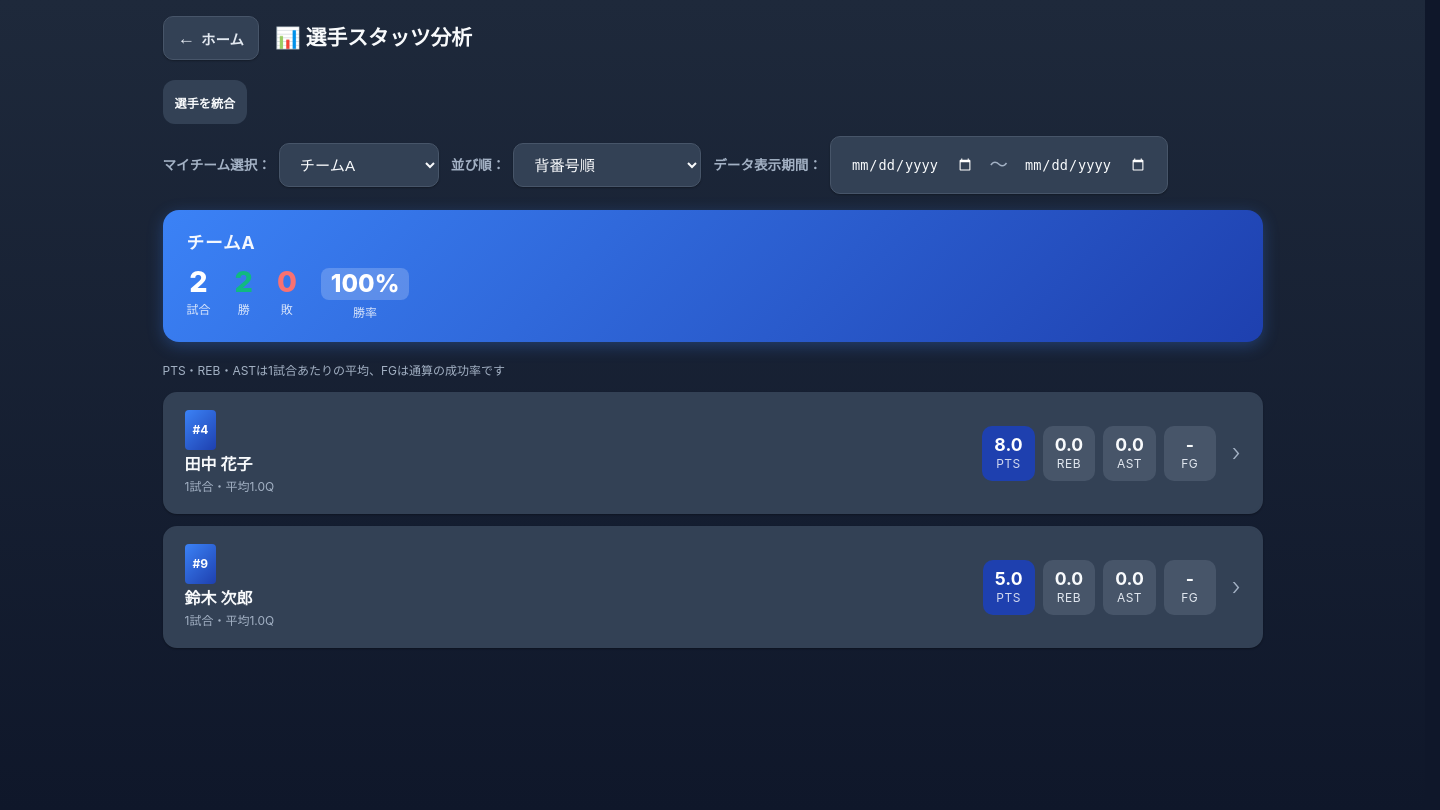
統合の流れ › マイチームを切り替えると選択モードを抜け、切り替え後のカードも選択済みにならない
Step 1. Click the button "選手を統合" → (205, 102), box [162,80,247,124]
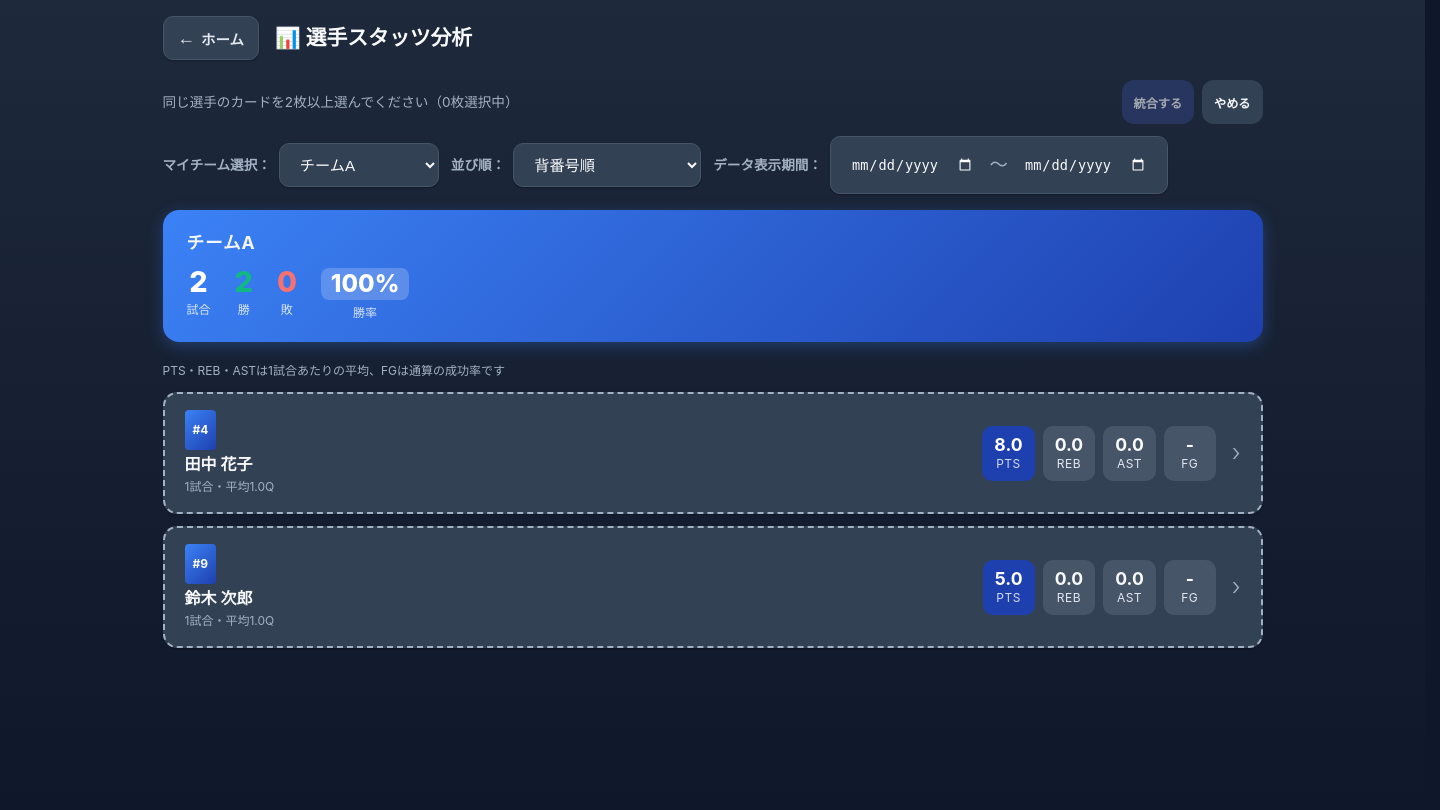
Step 2. Click the button "#4 田中 花子 1試合平均1.0Q 8.0 PTS 0.0 REB 0.0 AST - FG ›" → (200, 430), box [162,392,1262,514]
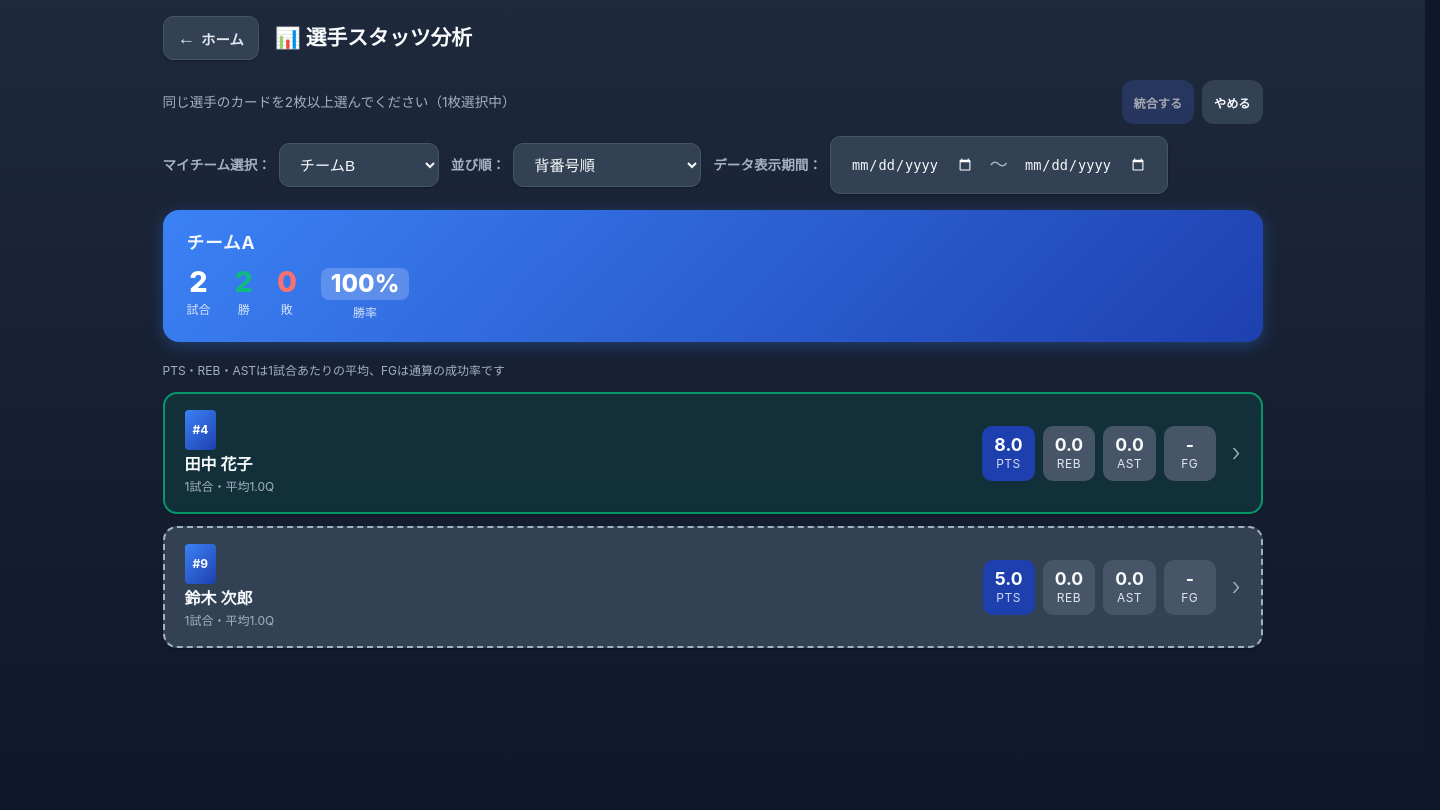
Expected: the button "#4 田中 花子 1試合平均1.0Q 8.0 PTS 0.0 REB 0.0 AST - FG ›" is pressed, [162,392,1262,514]
Step 3. Select "チームB" in the dropdown with id "stats-team-select" → (359, 165), box [279,143,439,187]
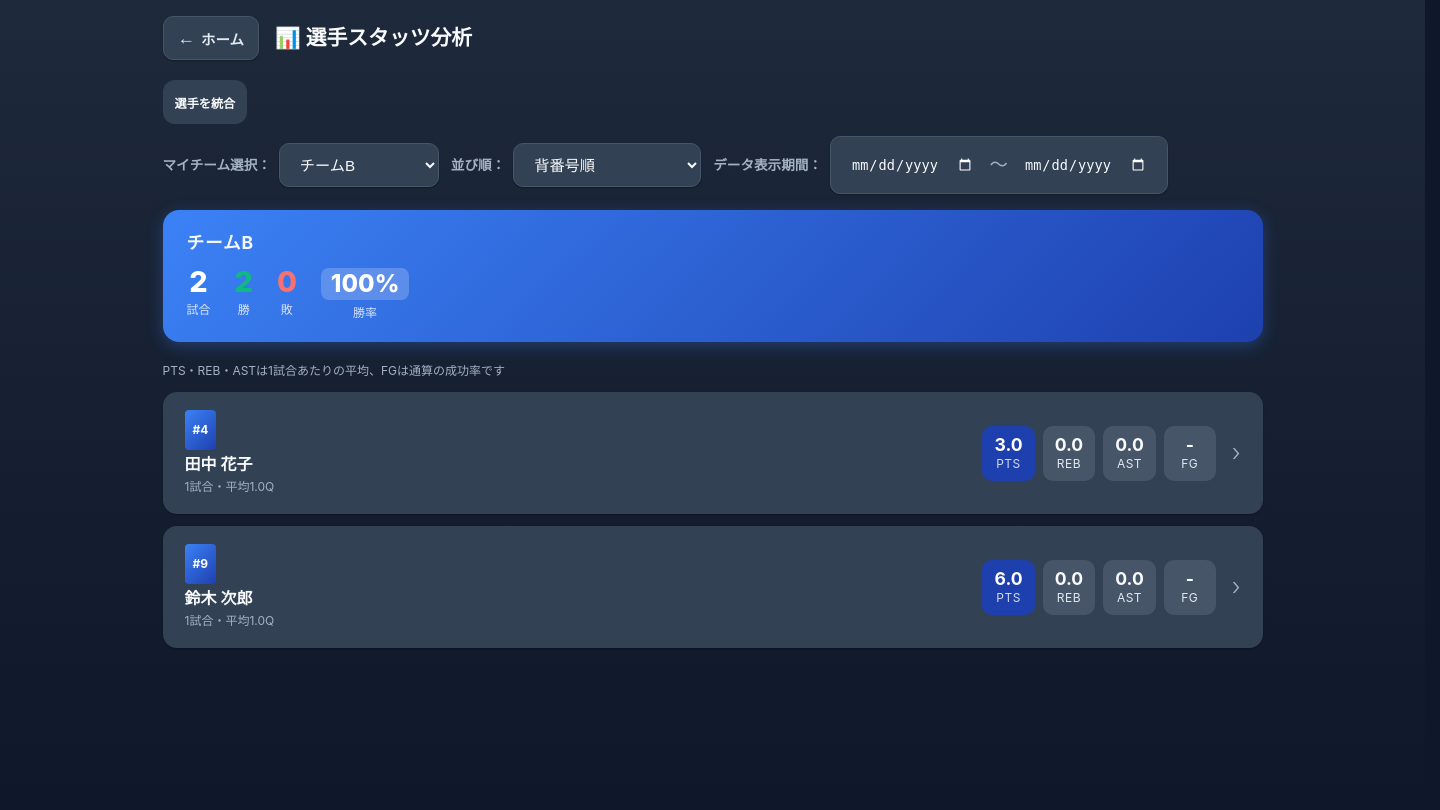
Expected: the button "統合する" is gone
Expected: the button "やめる" is gone
